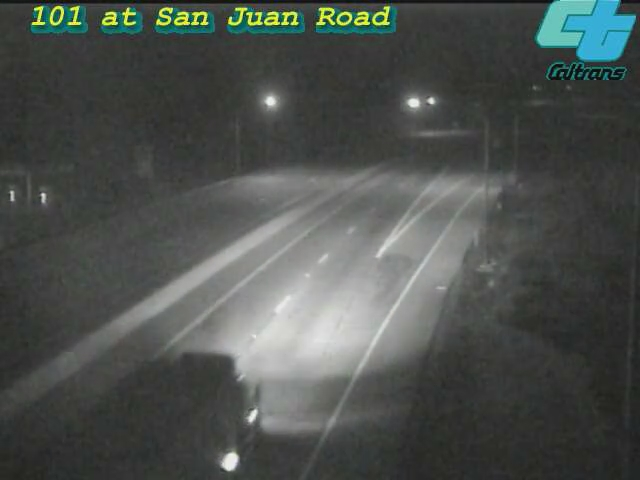vehicle: (110, 381, 220, 480)
